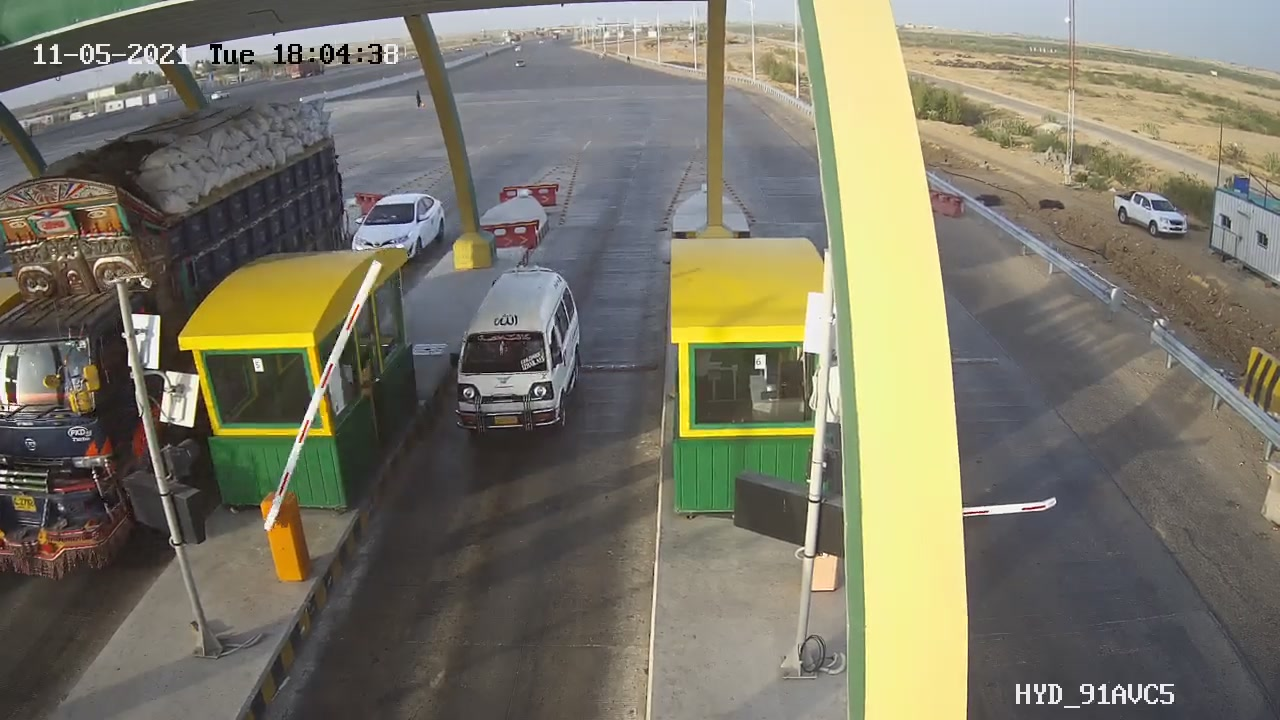F1: (428, 252, 613, 457)
